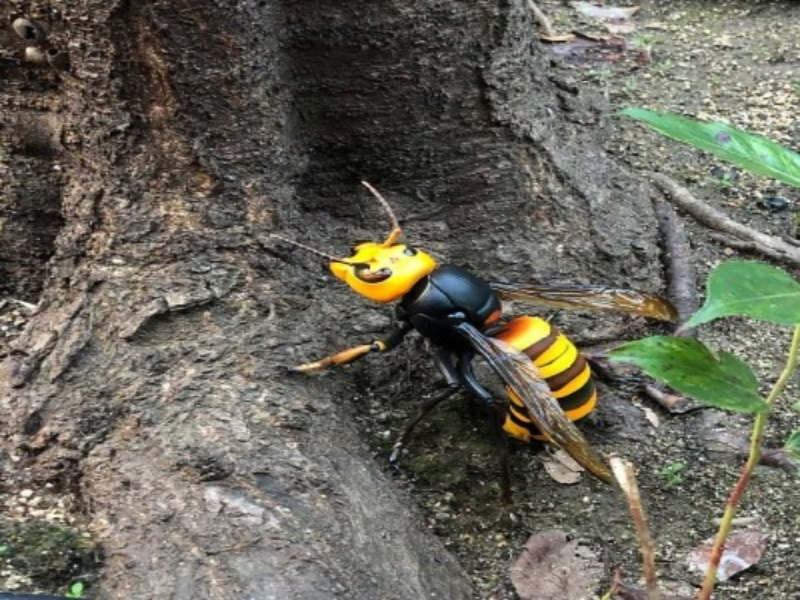asian_giant_hornet: (324, 225, 604, 448)
